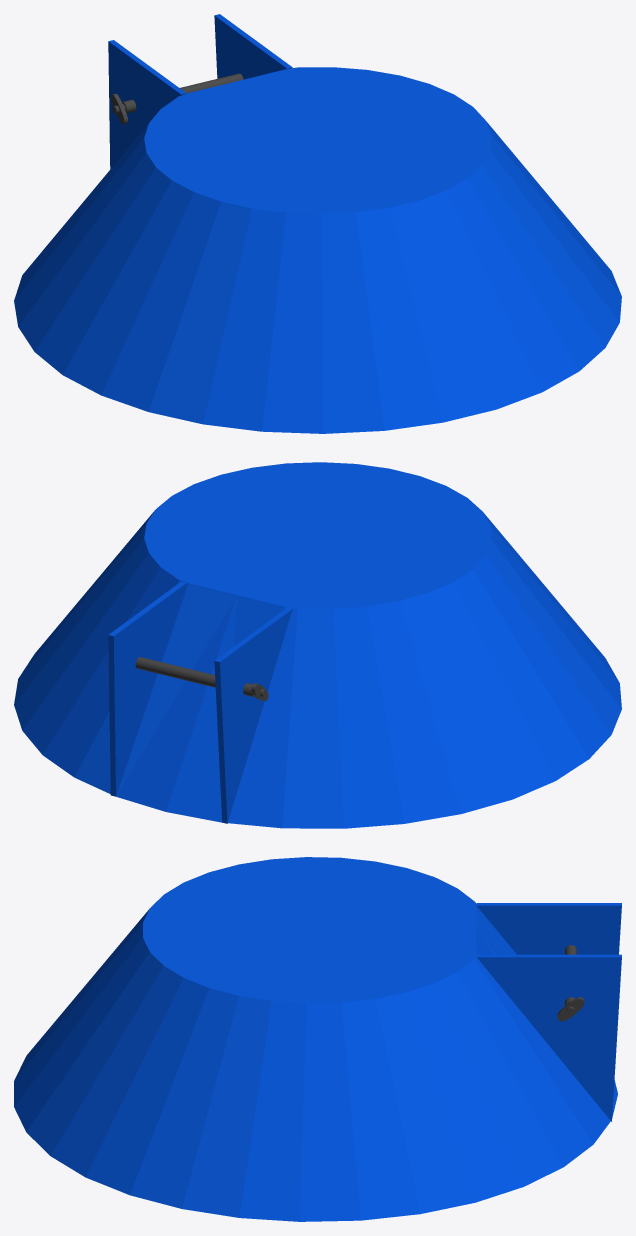
The model's file is Movable_part.fbx.
3 views of the same model, one above another, from view 1: azimuth 30°, elevation 25°; view 2: azimuth 150°, elevation 25°; view 3: azimuth 270°, elevation 25° (orthographic).
Parts seen in each view (by area): view 1: Movable; view 2: Movable; view 3: Movable.
Part boxes in pixels (x1,y1,x2,y2): Movable: [14, 14, 621, 433]; Movable: [14, 462, 621, 828]; Movable: [14, 857, 621, 1221].
Bounding box in the file's own units: 201 × 66.43 × 200.
